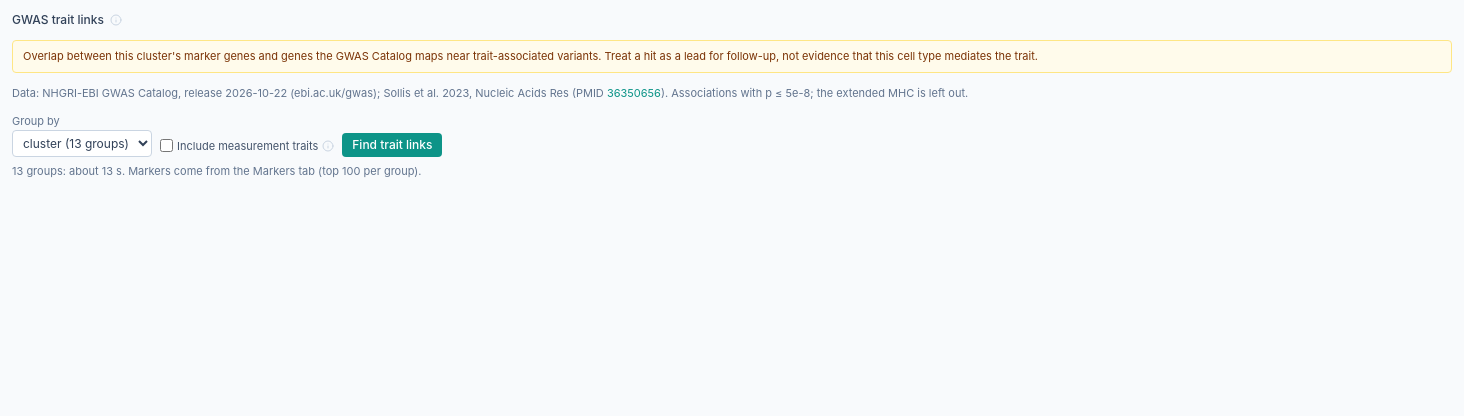
Test: TraitsSubtab › runs on the group column, opens the group with leads, and lists traits with p-values
The width and height of the screenshot is (1464, 416).
Click the checkbox labelled "Include measurement traits" at (166, 146), box [160, 140, 173, 152]
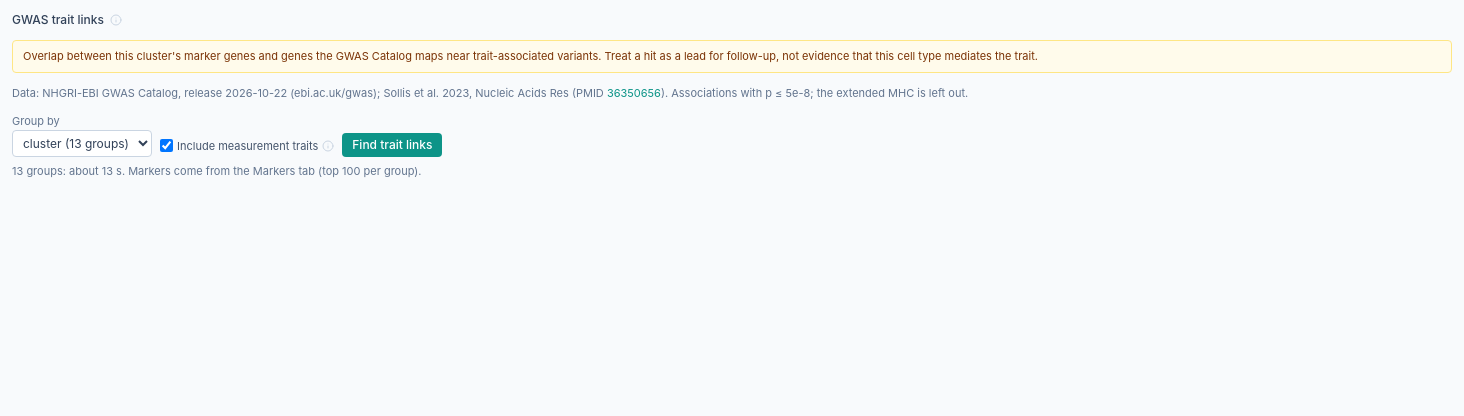
Click the button "Find trait links" at (392, 145), box [342, 133, 442, 157]
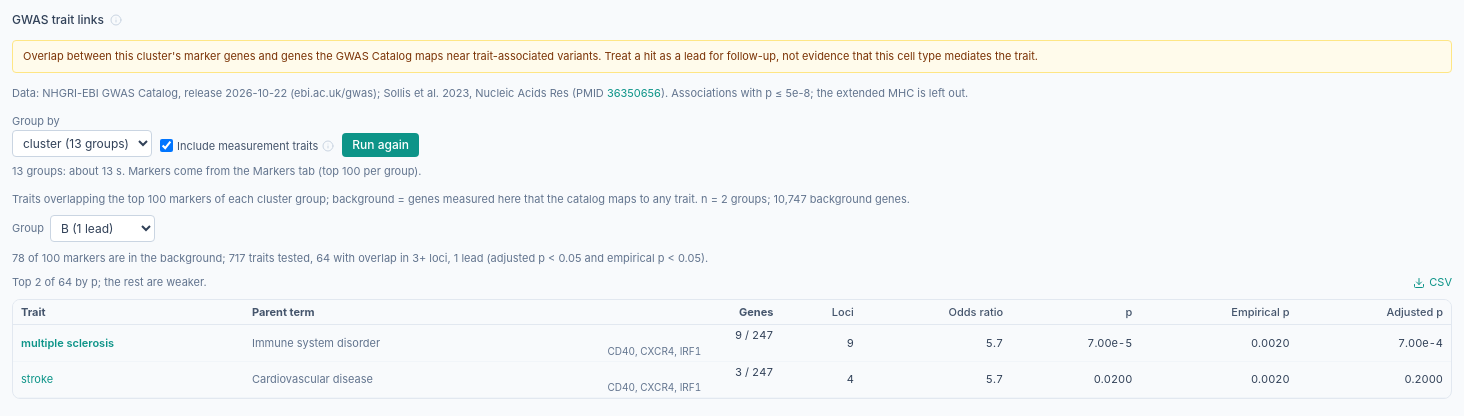
Check: the button "multiple sclerosis" is shown, box [21, 335, 114, 351]
Check: the dropdown labelled "Group" shows "B (1 lead)", box [50, 215, 155, 242]
Check: the text "n = 2 groups; 10,747 background genes." is shown, box [701, 192, 910, 206]
